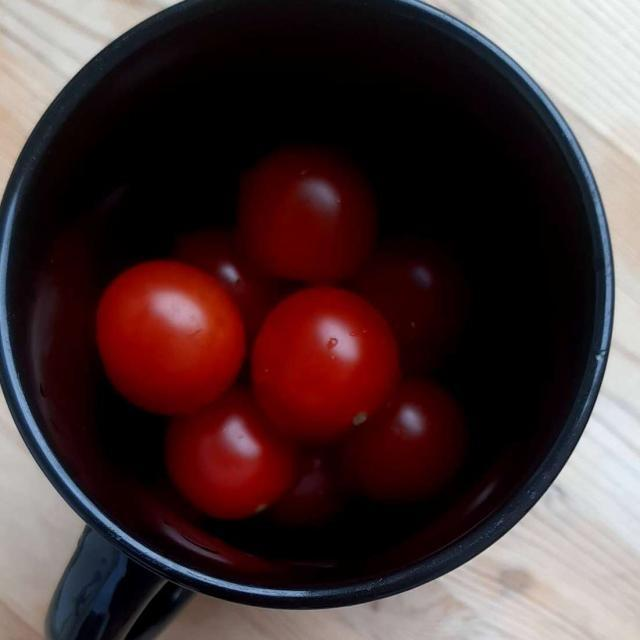tomato: (103, 147, 464, 518)
